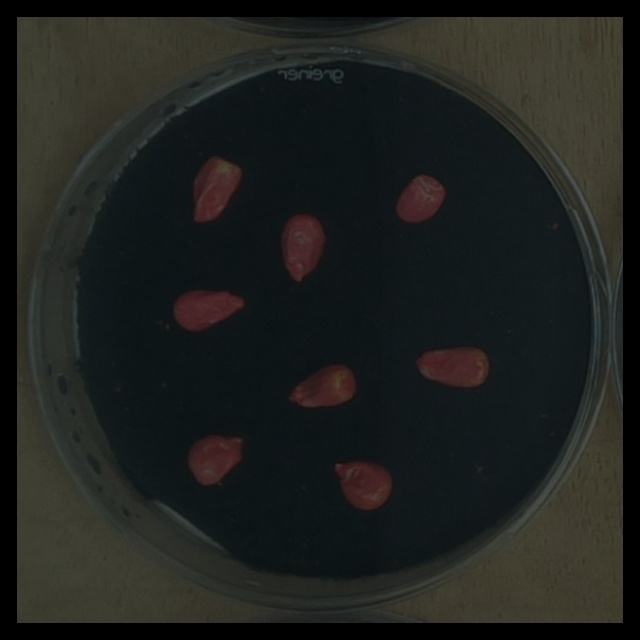Zea mays: (408, 338, 498, 395), (280, 356, 363, 416), (187, 149, 248, 230), (181, 427, 253, 493), (164, 283, 251, 337), (326, 452, 399, 515), (275, 207, 331, 287), (389, 167, 451, 231)
